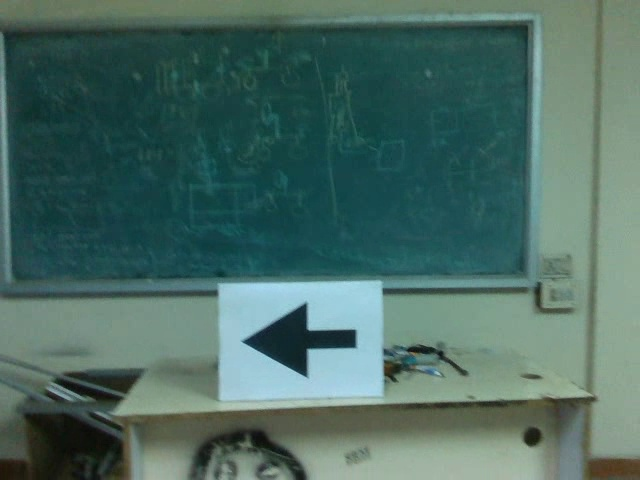Left: (239, 297, 361, 381)
